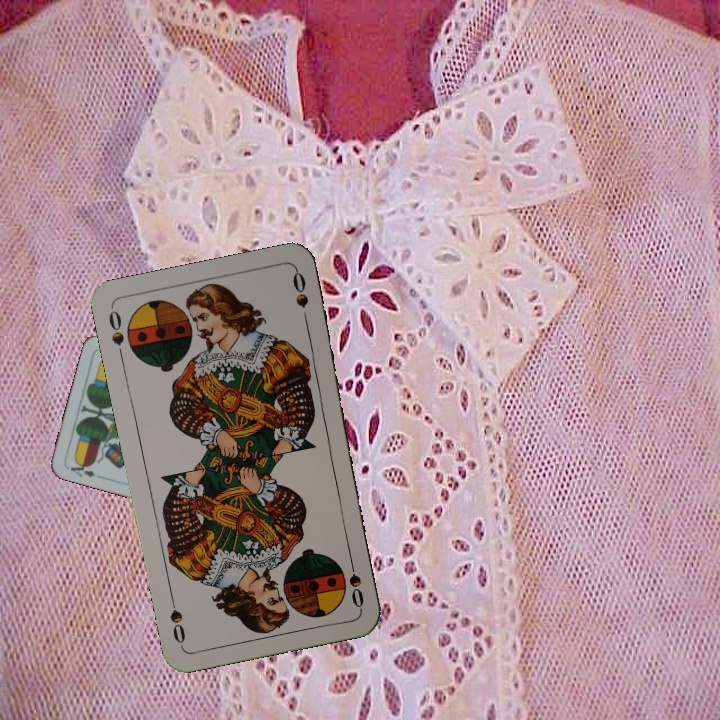EA: (67, 458, 98, 480)
SO: (104, 306, 128, 363), (345, 552, 367, 611)
